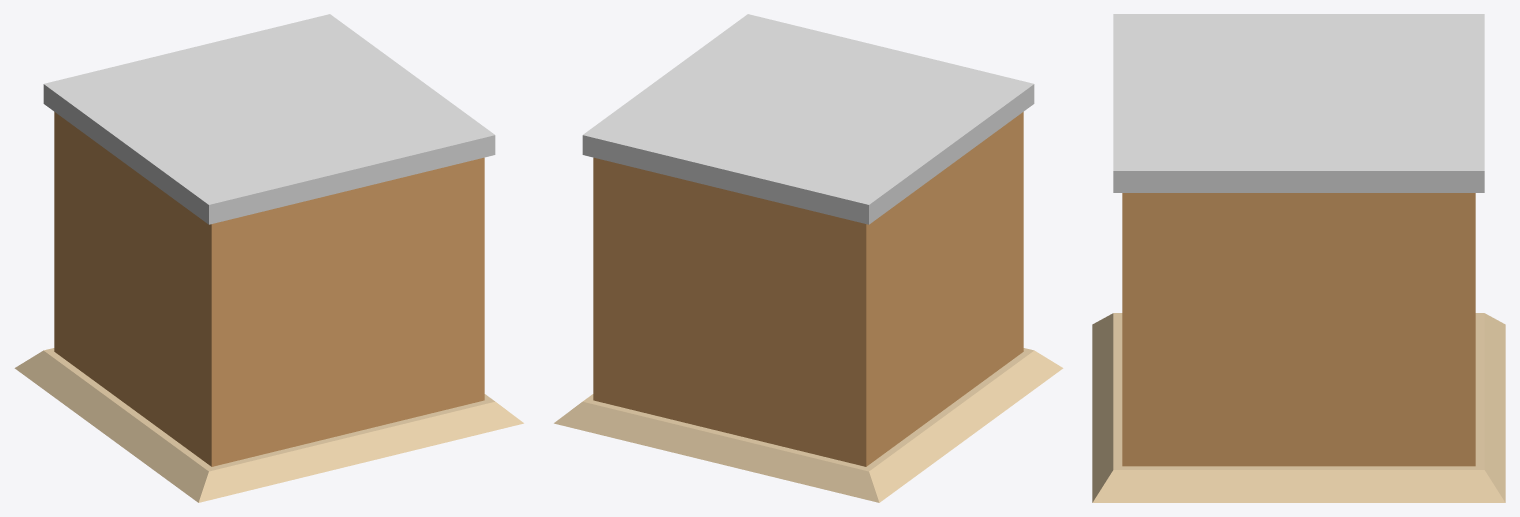
The picture shows the model from 3 angles, left to right: view 1: azimuth 30°, elevation 25°; view 2: azimuth 150°, elevation 25°; view 3: azimuth 270°, elevation 25°; orthographic projection. The views are drawn at different scales.
Parts seen in each view (by area): view 1: Room.003, Room-separator, Foundation; view 2: Room.003, Room-separator, Foundation; view 3: Room.003, Room-separator, Foundation.
Boxes of the visible parts, x1=… form: Room.003: x1=54, y1=112, x2=484, y2=466; Room-separator: x1=43, y1=14, x2=495, y2=224; Foundation: x1=14, y1=348, x2=523, y2=502; Room.003: x1=593, y1=112, x2=1023, y2=466; Room-separator: x1=582, y1=14, x2=1034, y2=224; Foundation: x1=554, y1=348, x2=1063, y2=502; Room.003: x1=1122, y1=193, x2=1475, y2=466; Room-separator: x1=1113, y1=14, x2=1484, y2=192; Foundation: x1=1092, y1=313, x2=1505, y2=502.
Size of the model in its own units: 239 by 201 by 234.
